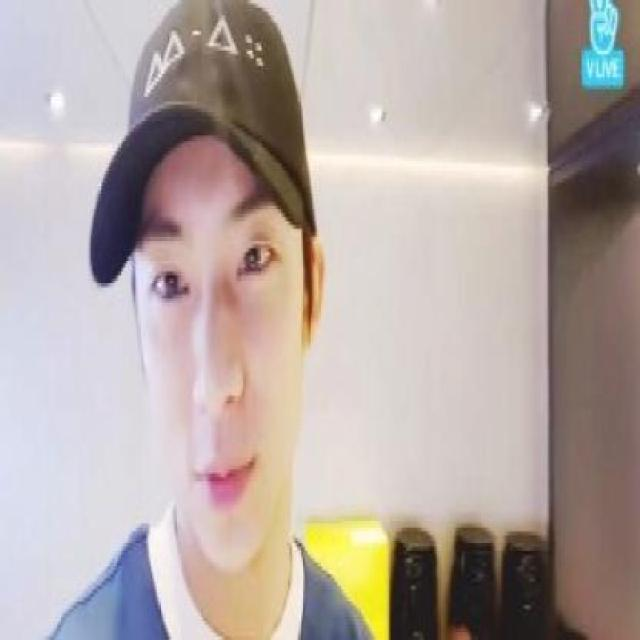hat: (87, 1, 316, 284)
